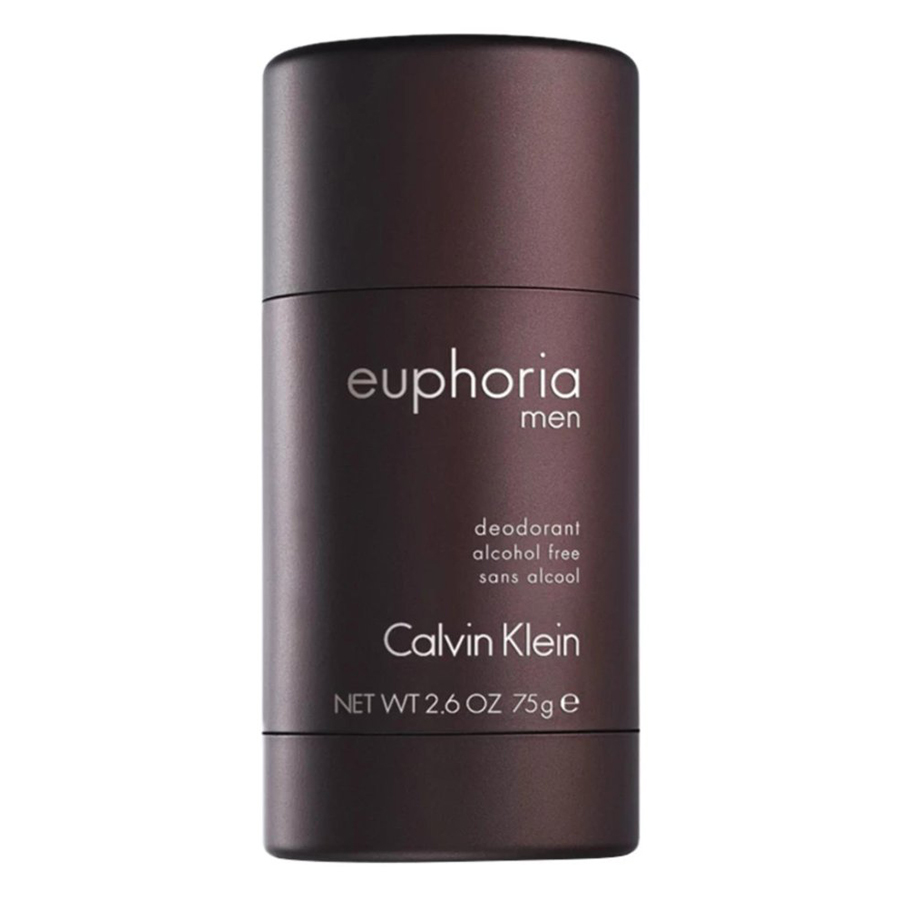Calvin Klein: (380, 615, 584, 669)
